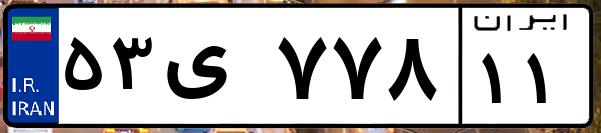1: (475, 38, 525, 113), (525, 38, 570, 115)
3: (110, 28, 158, 98)
5: (57, 26, 110, 100)
7: (270, 28, 330, 110), (330, 28, 385, 110)
8: (385, 28, 445, 110)
ی: (158, 20, 270, 120)
